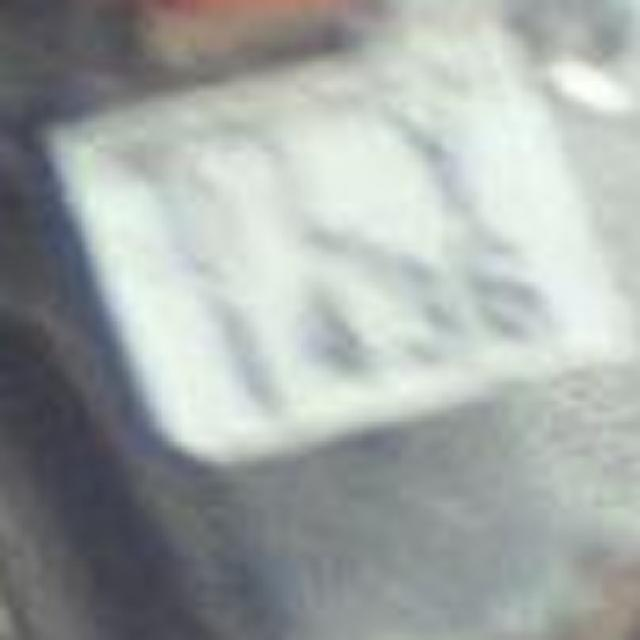1: (176, 256, 309, 424)
2: (336, 235, 484, 380)
4: (268, 252, 408, 400)
6: (449, 231, 576, 364)
Z: (212, 104, 368, 244)
